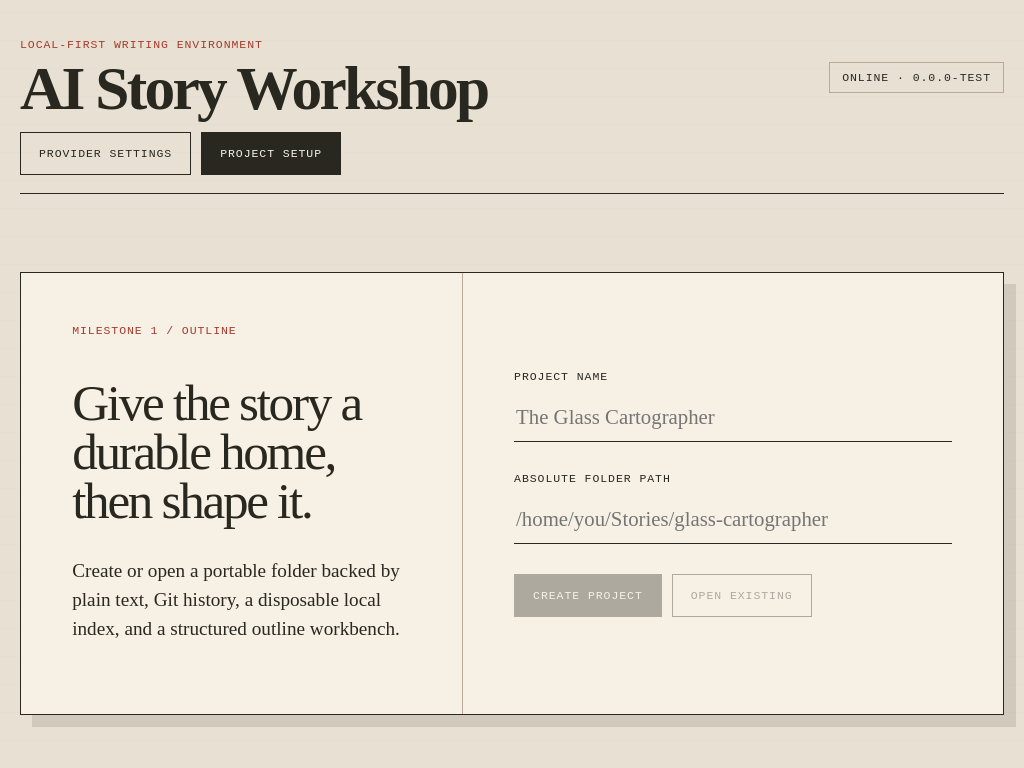
Test: opens import review after project creation
Check: the text "Online · 0.0.0-test" is shown, box [829, 62, 1004, 93]
Type "/tmp/story" into the field with placeholder "/home/you/Stories/glass-cartographer" at (733,520), box [514, 495, 952, 544]
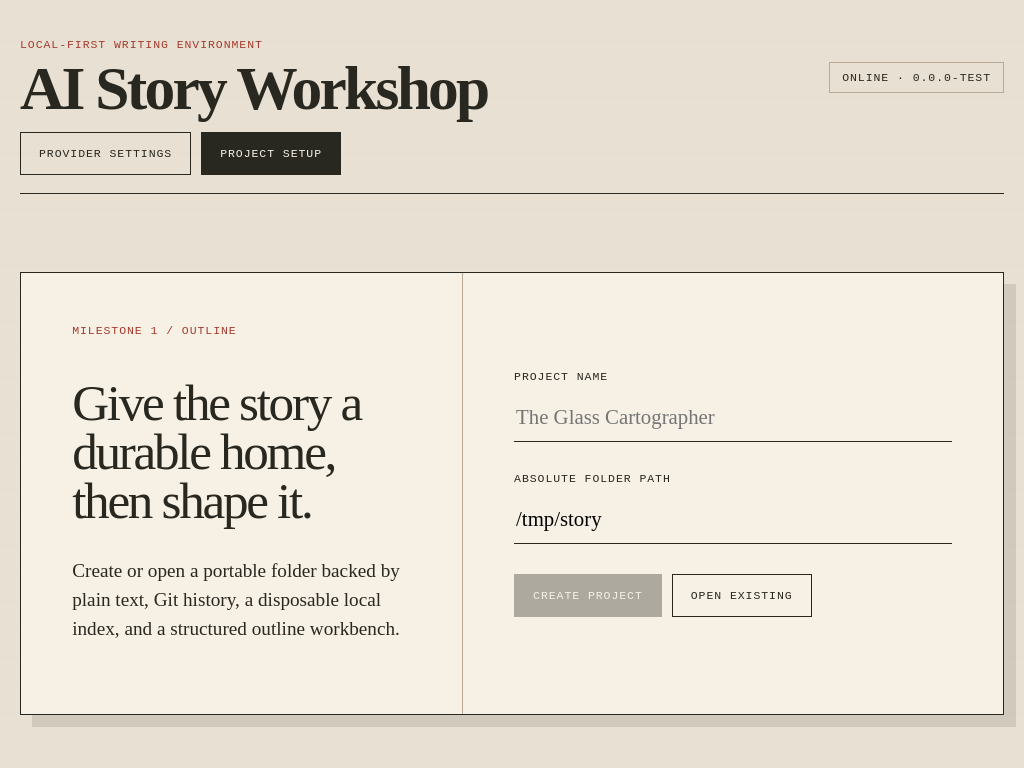
Type "Story" into the field with placeholder "The Glass Cartographer" at (733,418), box [514, 393, 952, 442]
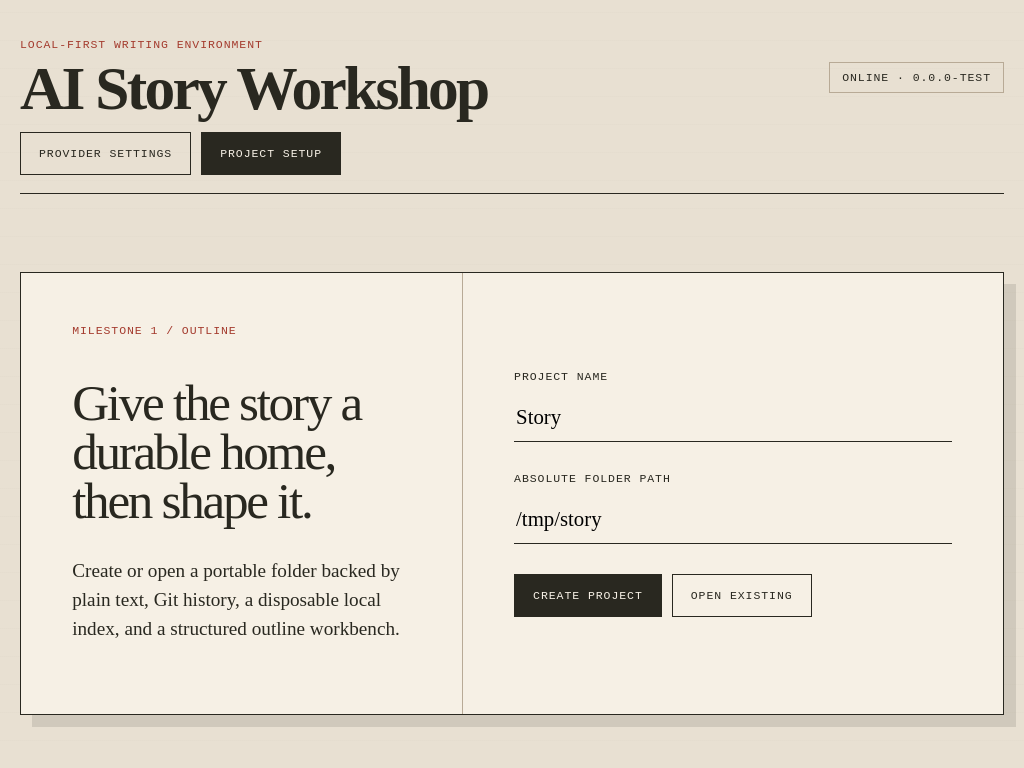
Click the button "Create project" at (588,596), box [514, 574, 662, 617]
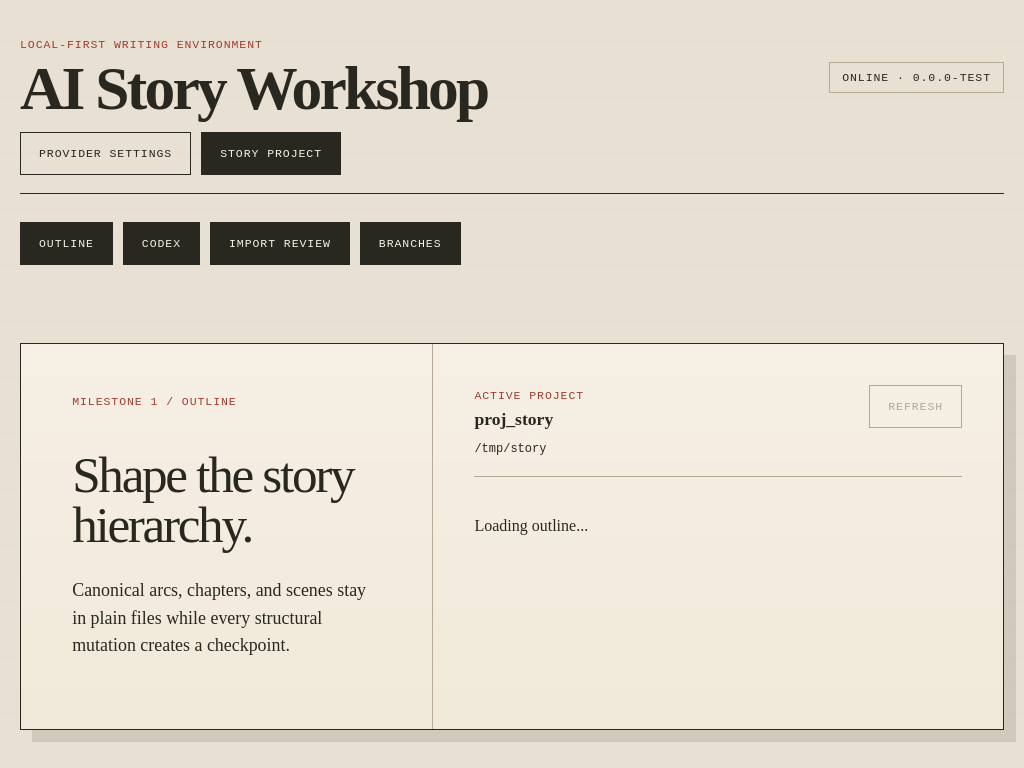
Check: the button "Import Review" is shown
Click the button "Import Review" at (280,244), box [210, 222, 350, 265]
(page scrolled)
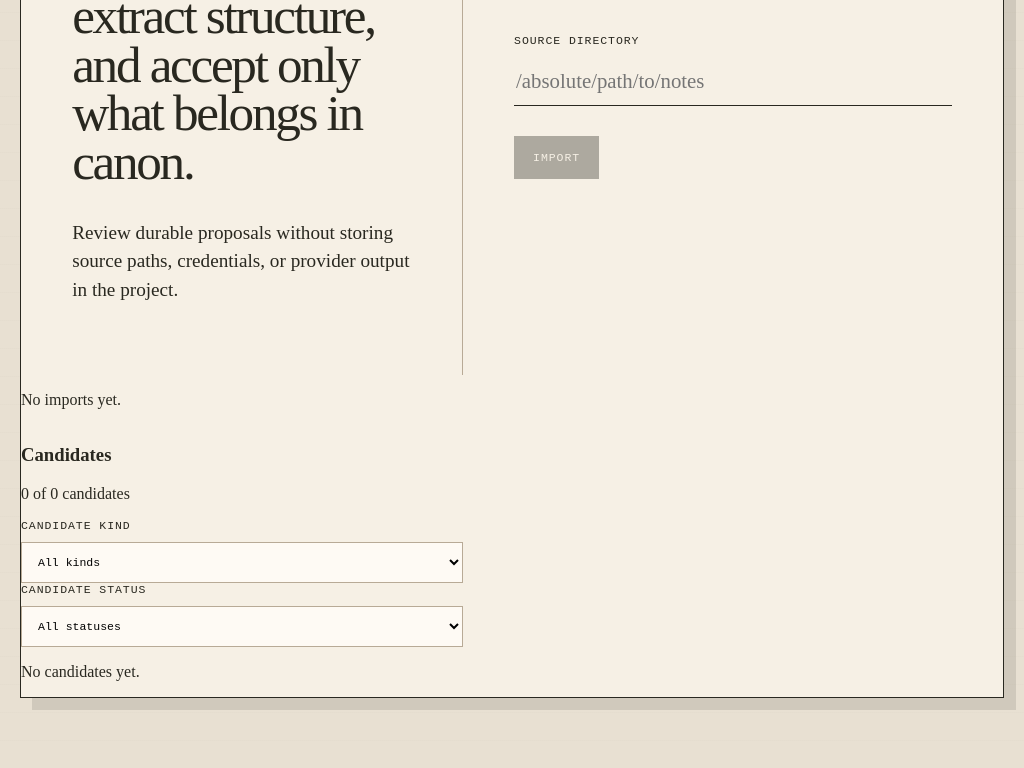
Check: the text "No imports yet." is shown, box [21, 391, 121, 408]
